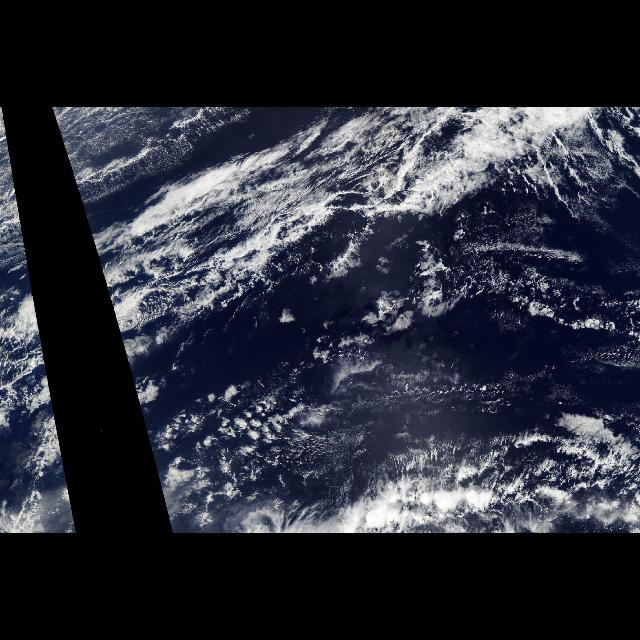Fish: (63, 108, 605, 354)
Flower: (129, 372, 353, 508)
Sugar: (52, 110, 198, 177)
